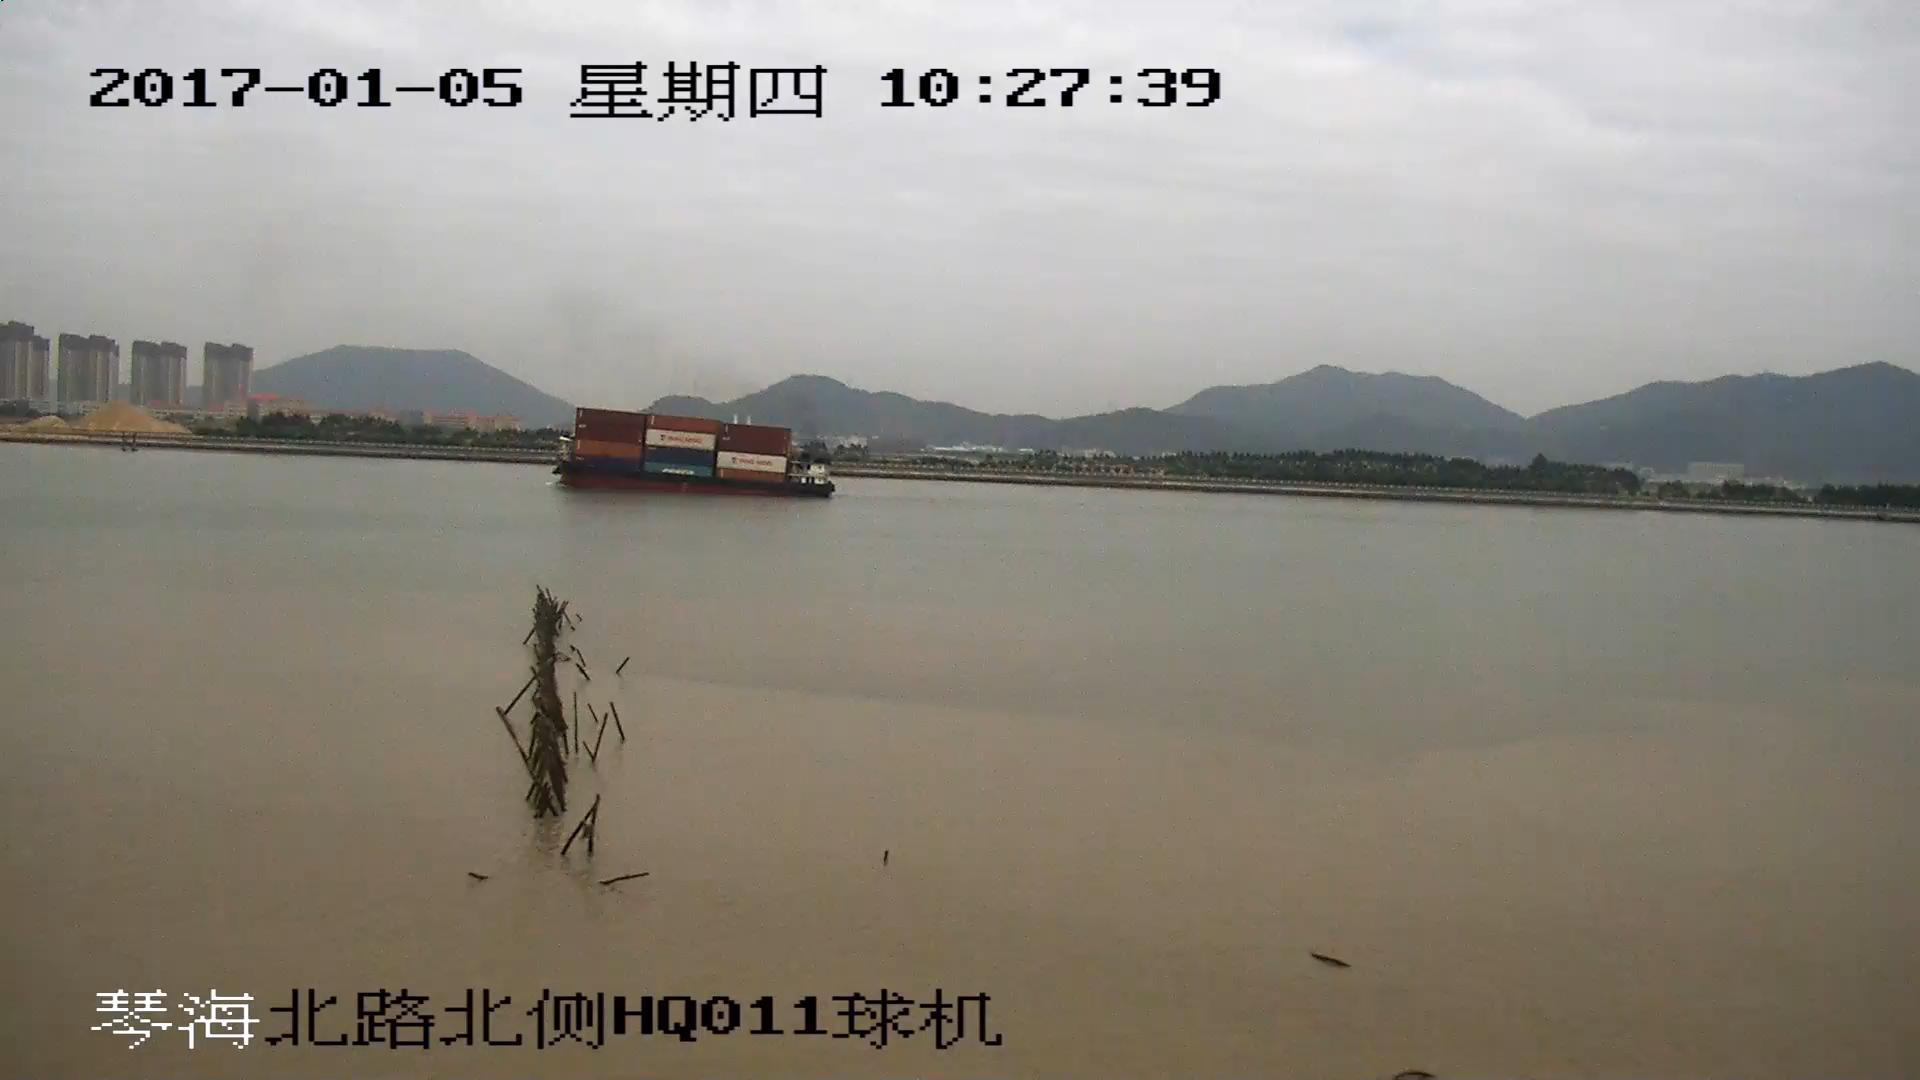Ship: (550, 411, 833, 498)
